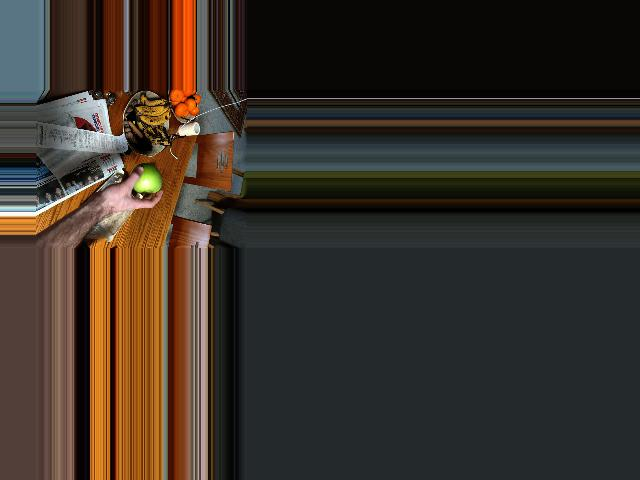apple: (127, 164, 163, 194)
